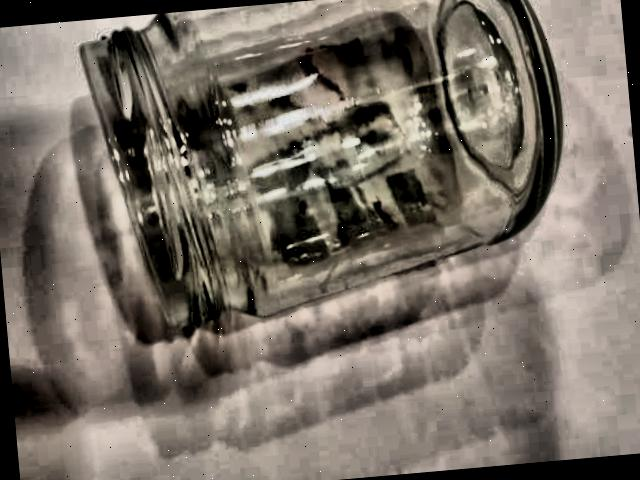Almennt: (68, 0, 588, 370)
